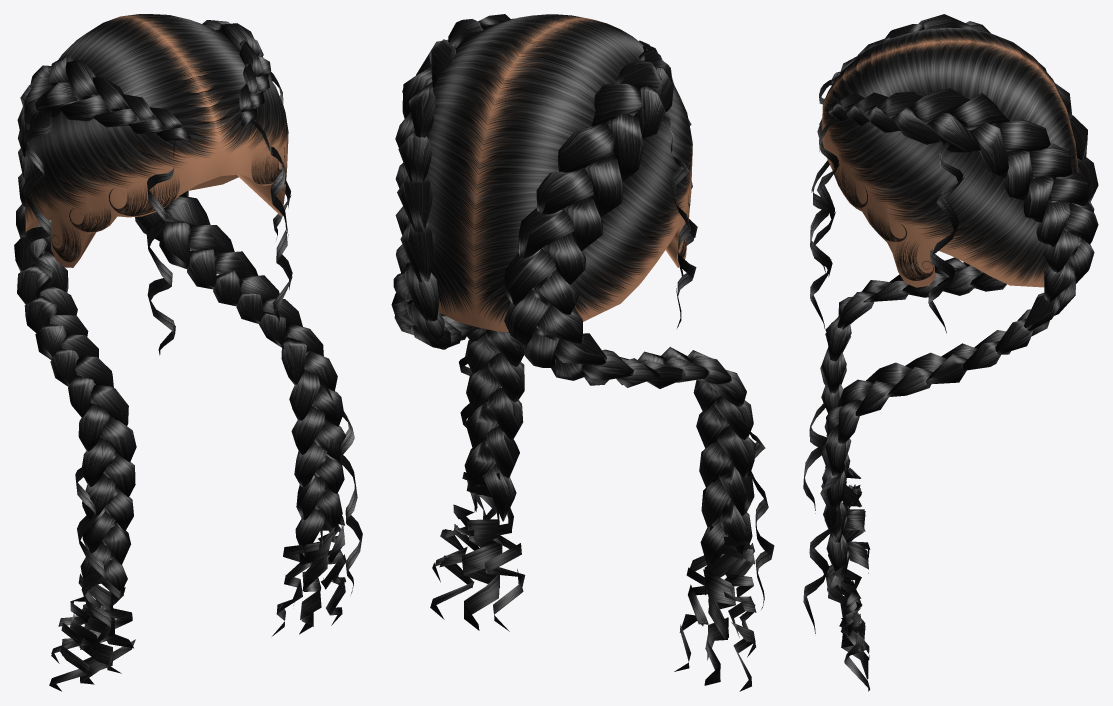
The picture shows the model from 3 angles, left to right: view 1: azimuth 30°, elevation 25°; view 2: azimuth 150°, elevation 25°; view 3: azimuth 270°, elevation 25°; orthographic projection. The views are drawn at different scales.
Visible parts, largest first — view 1: geometry_0; view 2: geometry_0; view 3: geometry_0.
Boxes of the visible parts, left/top/right/bottom form: geometry_0: left=14, top=14, right=362, bottom=691; geometry_0: left=391, top=14, right=774, bottom=691; geometry_0: left=803, top=14, right=1098, bottom=691.
Bounding box in the file's own units: 1.64 × 3.2 × 1.45.
Materials: 1 (1 with a texture image).
